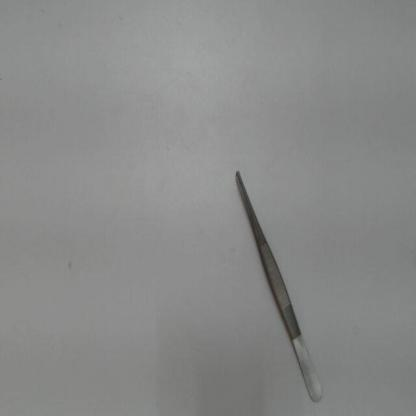Gillies Toothed Dissector: (222, 156, 329, 406)
